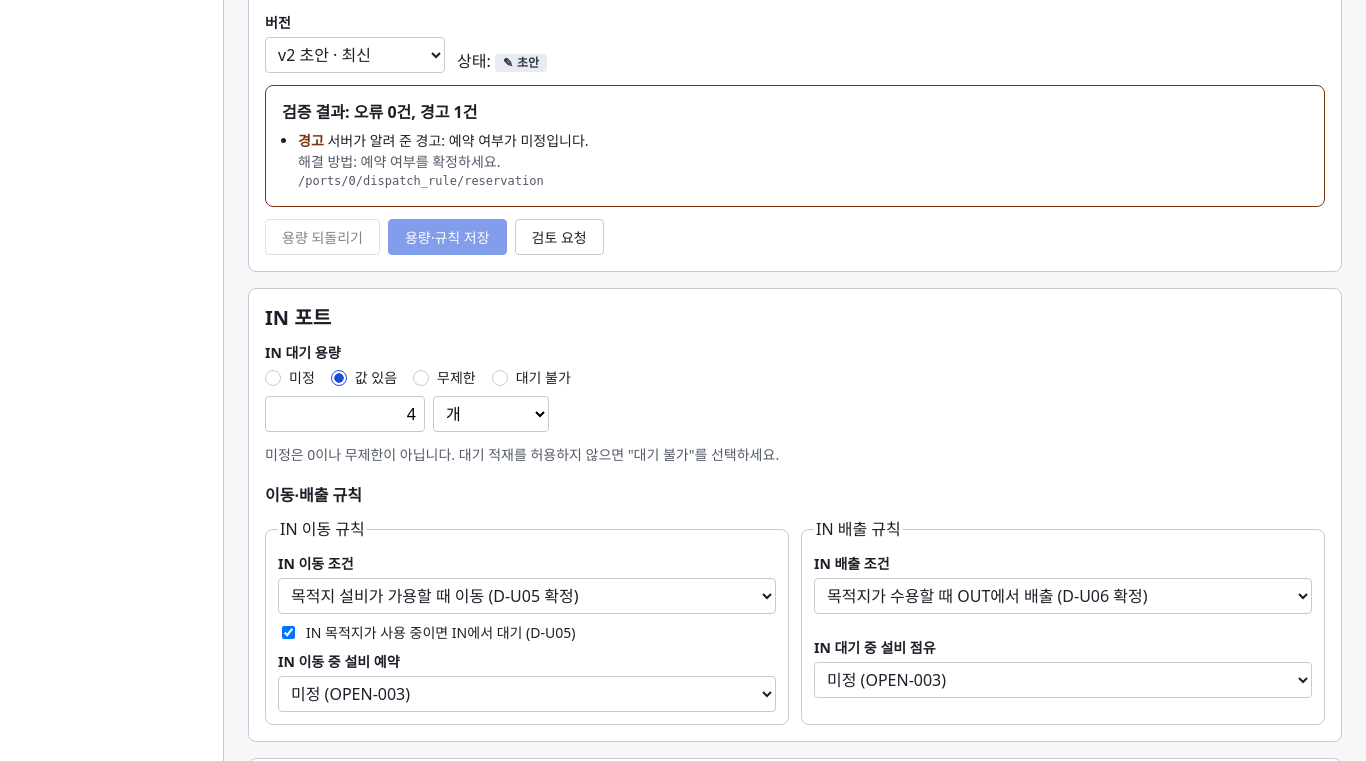
용량·규칙 저장 (PATCH /asset-revisions/{id}) › 무제한·대기 불가·미정은 mode만 보내고 값·단위·status를 보내지 않는다
(page scrolled)
Expected: the dropdown labelled "IN 이동 조건" is shown, [278,578,776,614]
Step 1. Click the 3rd radio button named "무제한" → point(421, 378), box [413,370,429,386]
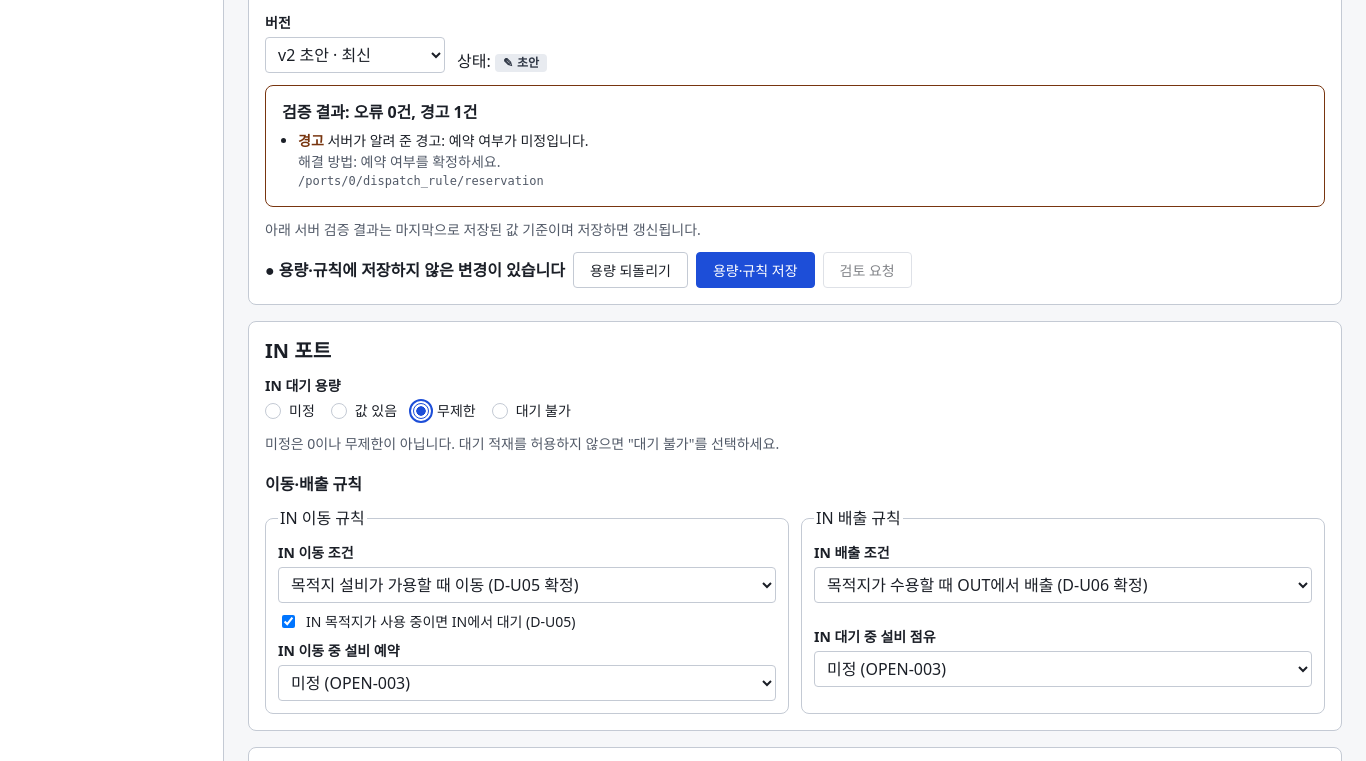
Step 2. Click the button "용량·규칙 저장" → point(755, 270), box [696,252,815,288]
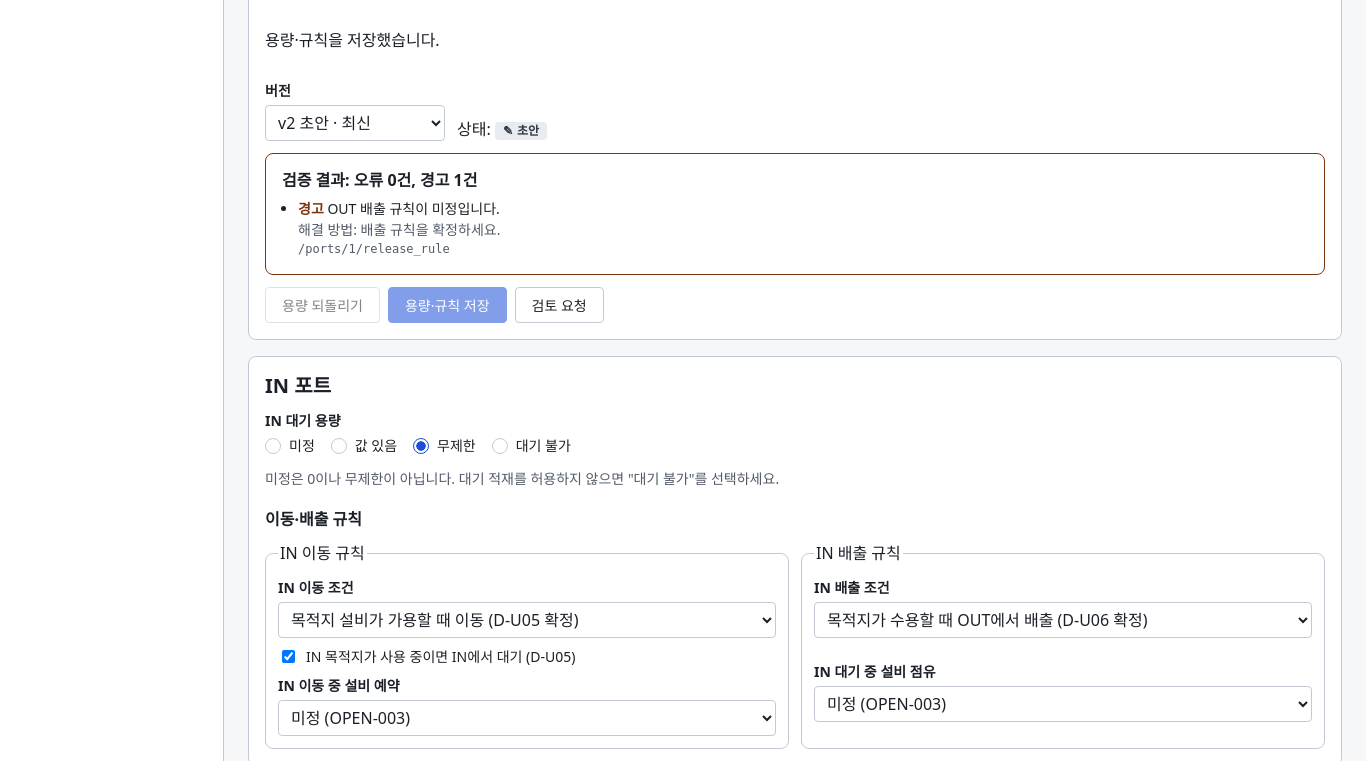
Expected: the text "용량·규칙을 저장했습니다." is shown, [265,29,440,51]
